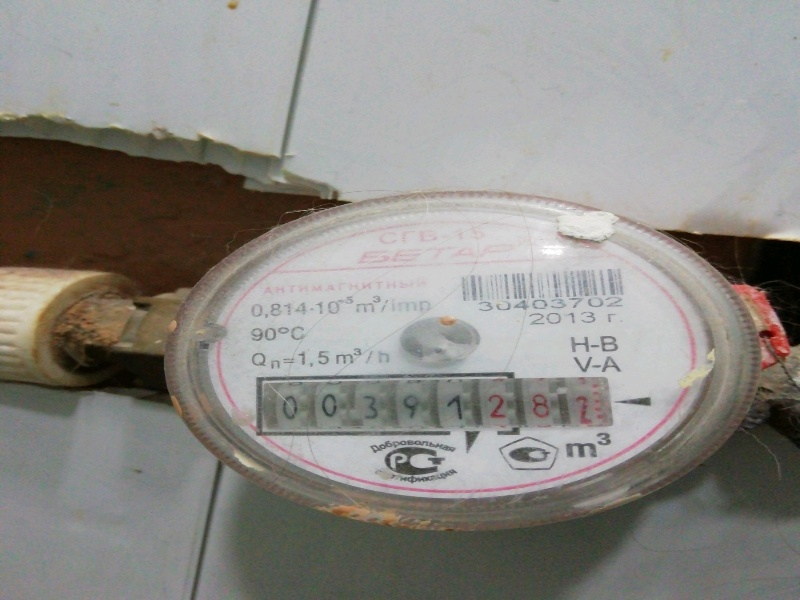meter: (262, 375, 609, 427)
